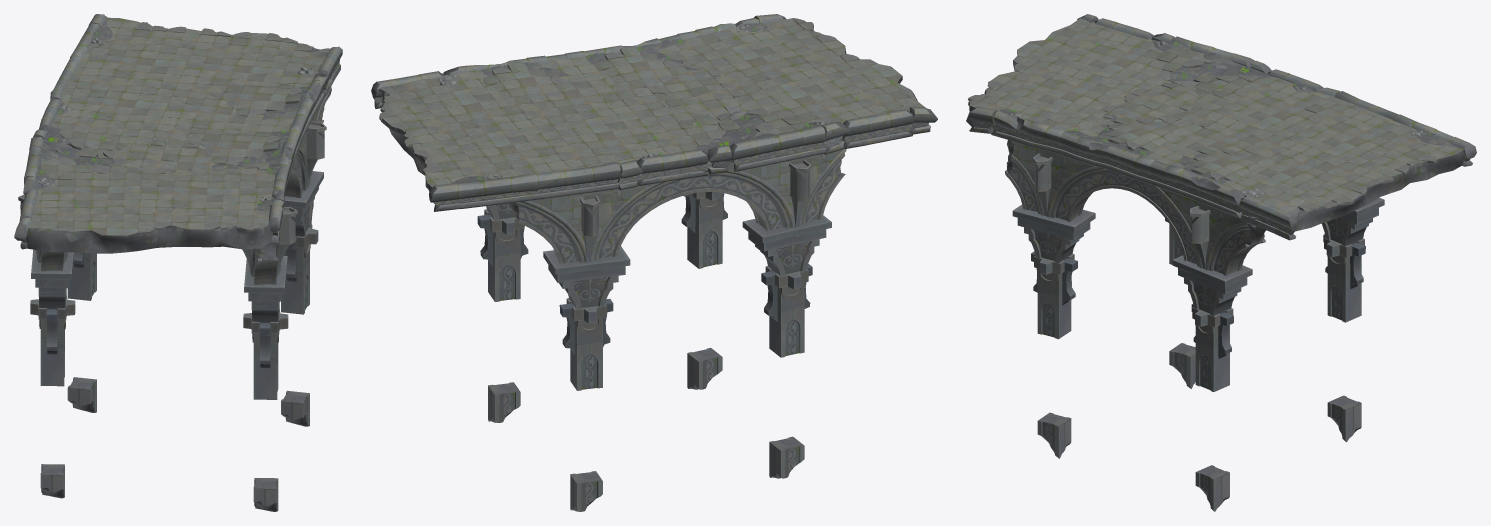
The model's file is SkillObj_Monster_Dvalin_Platform_04.fbx.
The picture shows the model from 3 angles, left to right: view 1: azimuth 30°, elevation 25°; view 2: azimuth 150°, elevation 25°; view 3: azimuth 270°, elevation 25°; orthographic projection. The views are drawn at different scales.
Parts seen in each view (by area): view 1: Area_MdBuild_SdBridge13_Lod0.001, Area_MdBuild_SdRuins07_07_Lod0, Area_MdProps_SdPillar02_02_Lod0, Area_MdBuild_SdWall01_08_Lod0, Area_MdProps_SdPillar02_02_Lod0.002, Area_MdBuild_SdWall01_08_Lod0.001, Area_MdProps_SdPillar02_02_Lod0.001, Area_MdProps_SdPillar02_03_Lod0, Area_MdProps_SdPillar02_03_Lod0.002, Area_MdProps_SdPillar02_02_Lod0.003, Area_MdBuild_SdArch06_01_Lod0, Area_MdProps_SdPillar02_03_Lod0.001 (+10 smaller); view 2: Area_MdBuild_SdBridge13_Lod0.001, Area_MdBuild_SdArch06_04_Lod0.001, Area_MdBuild_SdArch06_02_Lod0.001, Area_MdProps_SdPillar02_02_Lod0.002, Area_MdProps_SdPillar02_02_Lod0.003, Area_MdProps_SdPillar02_02_Lod0.001, Area_MdBuild_SdRuins07_07_Lod0, Area_MdProps_SdPillar02_03_Lod0.002, Area_MdProps_SdPillar02_03_Lod0.003, Area_MdBuild_SdWall01_08_Lod0, Area_MdProps_SdPillar02_02_Lod0, Area_MdBuild_SdWall01_08_Lod0.001 (+9 smaller); view 3: Area_MdBuild_SdBridge13_Lod0.001, Area_MdBuild_SdArch06_04_Lod0, Area_MdProps_SdPillar02_02_Lod0, Area_MdProps_SdPillar02_02_Lod0.001, Area_MdProps_SdPillar02_02_Lod0.003, Area_MdBuild_SdArch06_02_Lod0, Area_MdProps_SdPillar02_03_Lod0, Area_MdBuild_SdRuins07_07_Lod0, Area_MdProps_SdPillar02_03_Lod0.001, Area_MdBuild_SdWall01_08_Lod0, Area_MdBuild_SdWall01_08_Lod0.001, Area_MdBuild_SdArch06_01_Lod0 (+9 smaller).
Part boxes in pixels (x1,y1,x2,y2): Area_MdBuild_SdBridge13_Lod0.001: (14, 14, 342, 253); Area_MdBuild_SdRuins07_07_Lod0: (103, 139, 241, 175); Area_MdProps_SdPillar02_02_Lod0: (243, 309, 288, 399); Area_MdBuild_SdWall01_08_Lod0: (176, 125, 280, 164); Area_MdProps_SdPillar02_02_Lod0.002: (30, 296, 75, 386); Area_MdBuild_SdWall01_08_Lod0.001: (198, 77, 302, 116); Area_MdProps_SdPillar02_02_Lod0.001: (281, 225, 318, 314); Area_MdProps_SdPillar02_03_Lod0: (244, 256, 287, 322); Area_MdProps_SdPillar02_03_Lod0.002: (31, 249, 73, 308); Area_MdProps_SdPillar02_02_Lod0.003: (67, 252, 96, 300); Area_MdBuild_SdArch06_01_Lod0: (250, 235, 280, 284); Area_MdProps_SdPillar02_03_Lod0.001: (284, 171, 323, 236); Area_MdBuild_SdBridge13_Lod0.001: (371, 14, 937, 211); Area_MdBuild_SdArch06_04_Lod0.001: (588, 159, 799, 261); Area_MdBuild_SdArch06_02_Lod0.001: (508, 192, 592, 263); Area_MdProps_SdPillar02_02_Lod0.002: (761, 263, 812, 357); Area_MdProps_SdPillar02_02_Lod0.003: (559, 298, 613, 390); Area_MdProps_SdPillar02_02_Lod0.001: (477, 209, 528, 301); Area_MdBuild_SdRuins07_07_Lod0: (655, 63, 742, 120); Area_MdProps_SdPillar02_03_Lod0.002: (742, 215, 831, 276); Area_MdProps_SdPillar02_03_Lod0.003: (543, 246, 630, 309); Area_MdBuild_SdWall01_08_Lod0: (594, 46, 687, 105); Area_MdProps_SdPillar02_02_Lod0: (681, 192, 727, 268); Area_MdBuild_SdWall01_08_Lod0.001: (482, 61, 574, 121); Area_MdBuild_SdBridge13_Lod0.001: (966, 14, 1476, 240); Area_MdBuild_SdArch06_04_Lod0: (1045, 150, 1204, 273); Area_MdProps_SdPillar02_02_Lod0: (1031, 251, 1077, 339); Area_MdProps_SdPillar02_02_Lod0.001: (1191, 304, 1233, 391); Area_MdProps_SdPillar02_02_Lod0.003: (1323, 234, 1365, 322); Area_MdBuild_SdArch06_02_Lod0: (1204, 204, 1266, 275); Area_MdProps_SdPillar02_03_Lod0: (1012, 204, 1095, 262); Area_MdBuild_SdRuins07_07_Lod0: (1100, 81, 1204, 127); Area_MdProps_SdPillar02_03_Lod0.001: (1172, 255, 1252, 315); Area_MdBuild_SdWall01_08_Lod0: (1105, 117, 1213, 151); Area_MdBuild_SdWall01_08_Lod0.001: (1189, 148, 1299, 181); Area_MdBuild_SdArch06_01_Lod0: (1005, 140, 1045, 215).
Bounding box in the file's own units: 41.58 × 31.25 × 43.21.
Materials: 14 (14 with a texture image).
